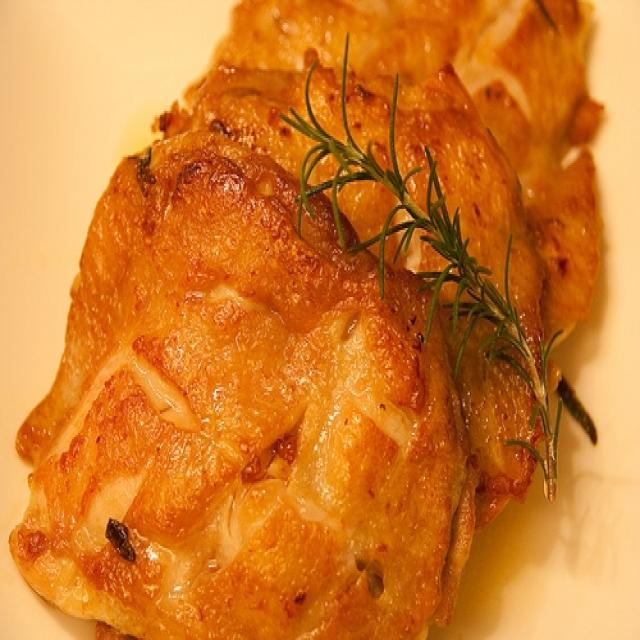鸡肉料理 含炸鸡: (8, 4, 620, 636)
